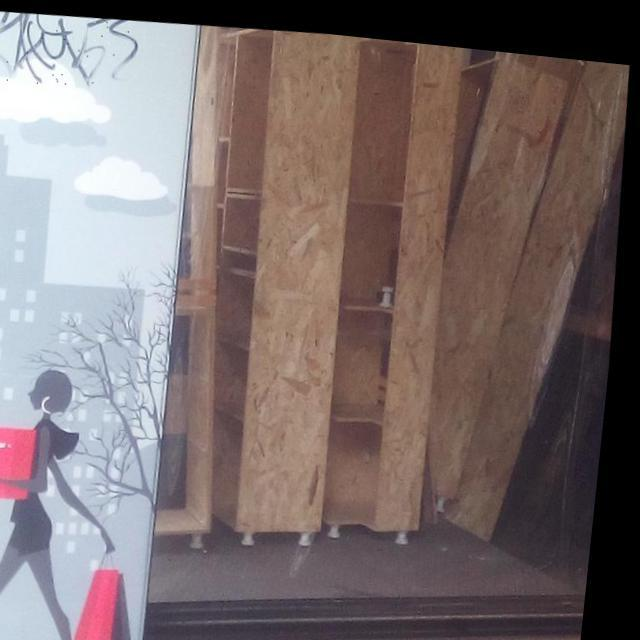-: (0, 6, 144, 92)
